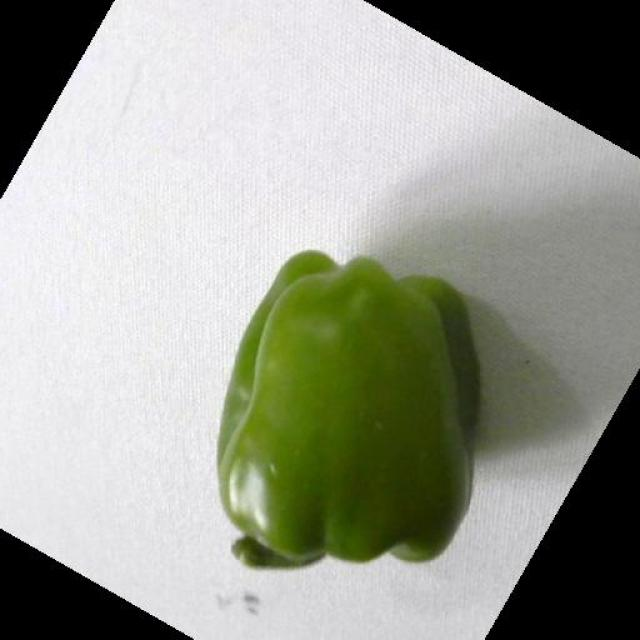Fresh_Capsicum: (234, 248, 464, 590)
